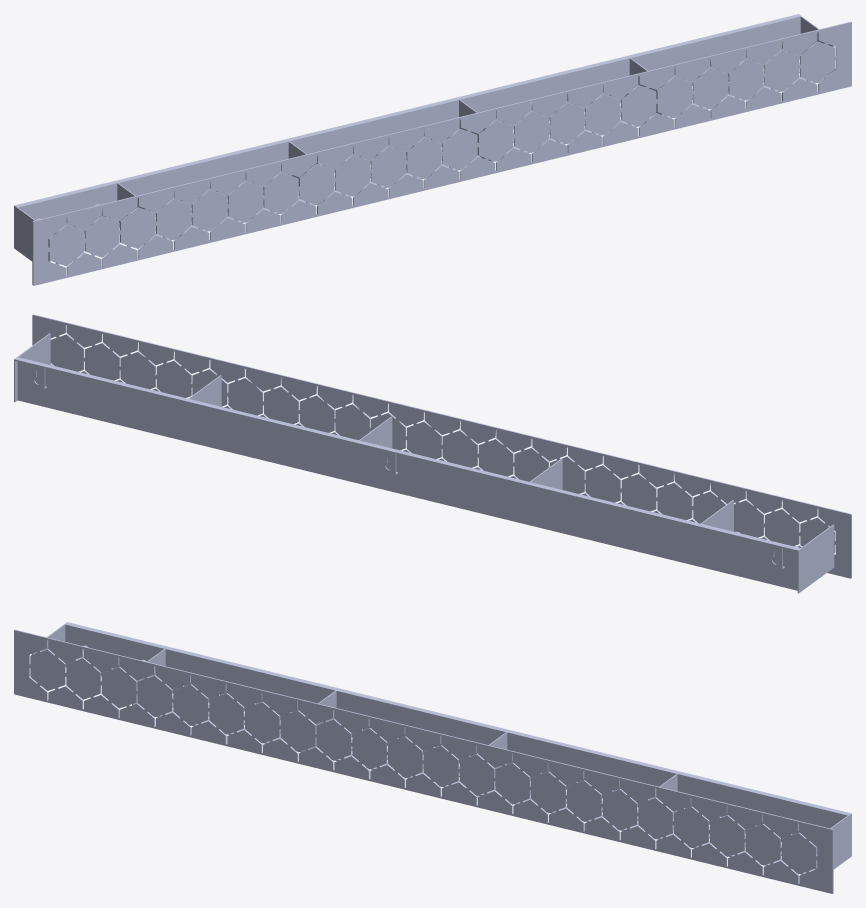
The model's file is bee-patron.c857959a5b.glb.
The picture shows the model from 3 angles, top to bottom: view 1: azimuth 30°, elevation 25°; view 2: azimuth 150°, elevation 25°; view 3: azimuth 330°, elevation 25°; orthographic projection.
Parts seen in each view (by area): view 1: NAUO1; view 2: NAUO1; view 3: NAUO1.
Boxes of the visible parts, x1,y1,x2,y2 form: NAUO1: (14,14,851,285); NAUO1: (14,314,851,593); NAUO1: (14,622,851,893).
Bounding box in the file's own units: 1.2 × 0.0899 × 0.092.
